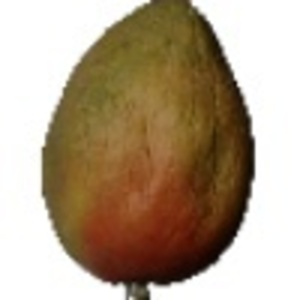mamão: (37, 2, 256, 289)
